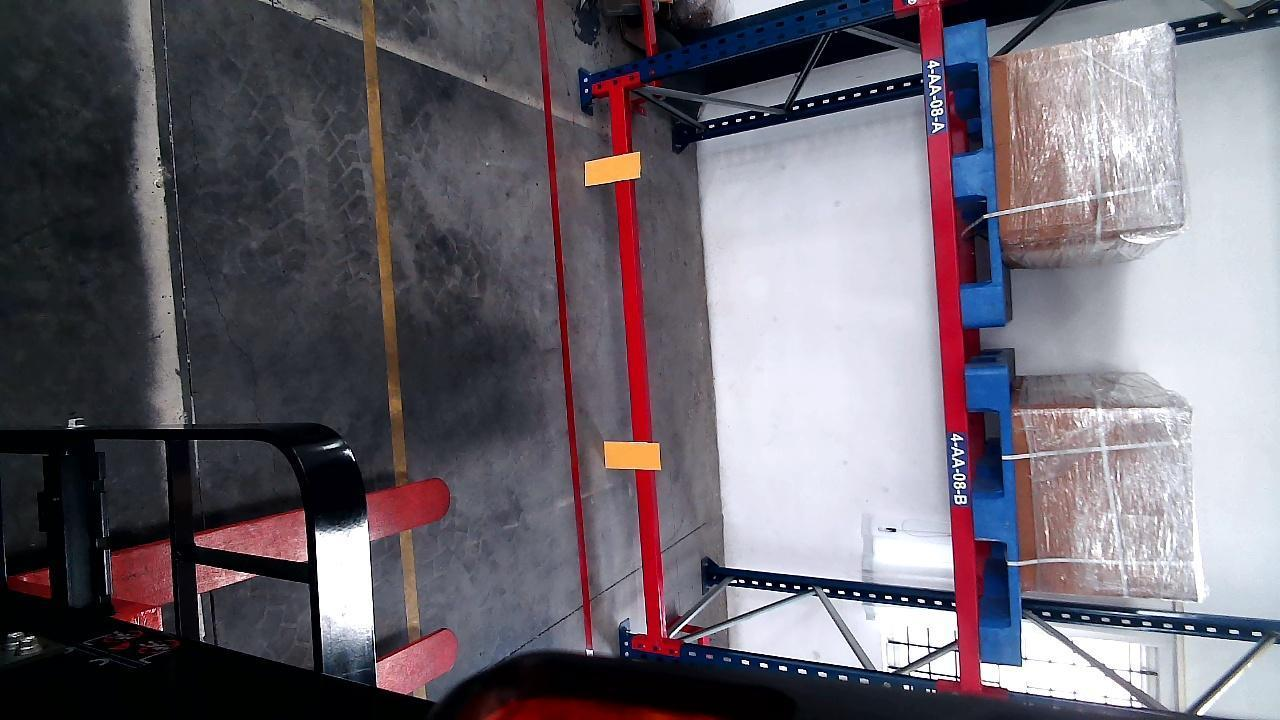h_rack: (922, 12, 978, 688), (612, 91, 660, 634)
orange_strip: (586, 151, 641, 185), (606, 439, 659, 469)
red_line: (531, 4, 598, 655)
small_pallet: (947, 15, 1004, 330), (967, 366, 1021, 659)
